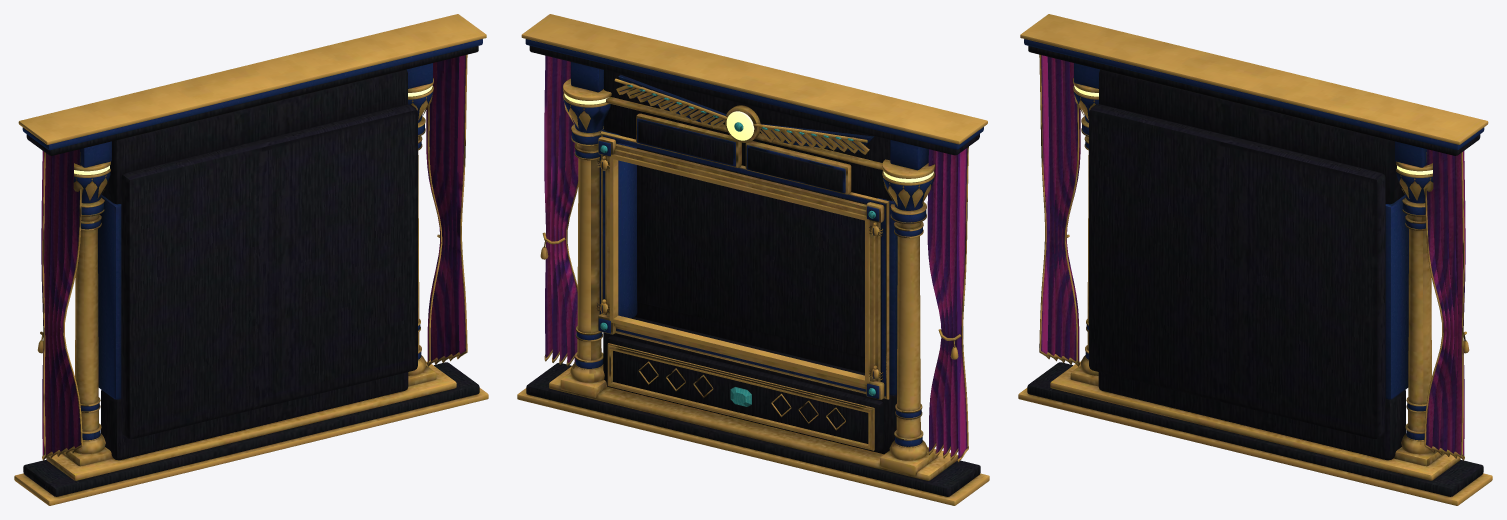
The picture shows the model from 3 angles, left to right: view 1: azimuth 30°, elevation 25°; view 2: azimuth 150°, elevation 25°; view 3: azimuth 330°, elevation 25°; orthographic projection.
Parts seen in each view (by area): view 1: Ebony, Royal_gold, Striped_royal_silk, Royal_lapis; view 2: Ebony, Royal_gold, Royal_lapis, Striped_royal_silk, Solar_amber_glow, Turquoise; view 3: Ebony, Royal_gold, Striped_royal_silk, Royal_lapis.
Boxes of the visible parts, x1,y1,x2,y2 form: Ebony: (23,46,479,496); Royal_gold: (14,14,488,505); Striped_royal_silk: (41,55,465,455); Royal_lapis: (22,39,482,440); Ebony: (526,46,980,496); Royal_gold: (517,14,989,505); Royal_lapis: (525,39,983,446); Striped_royal_silk: (544,55,967,458); Solar_amber_glow: (564,93,933,182); Turquoise: (600,84,875,406); Ebony: (1027,46,1483,496); Royal_gold: (1018,14,1492,505); Striped_royal_silk: (1041,55,1465,455); Royal_lapis: (1024,39,1484,440).
Size of the model in its own units: 12.16 by 9.6 by 1.96.
6 materials, 5 textured.
